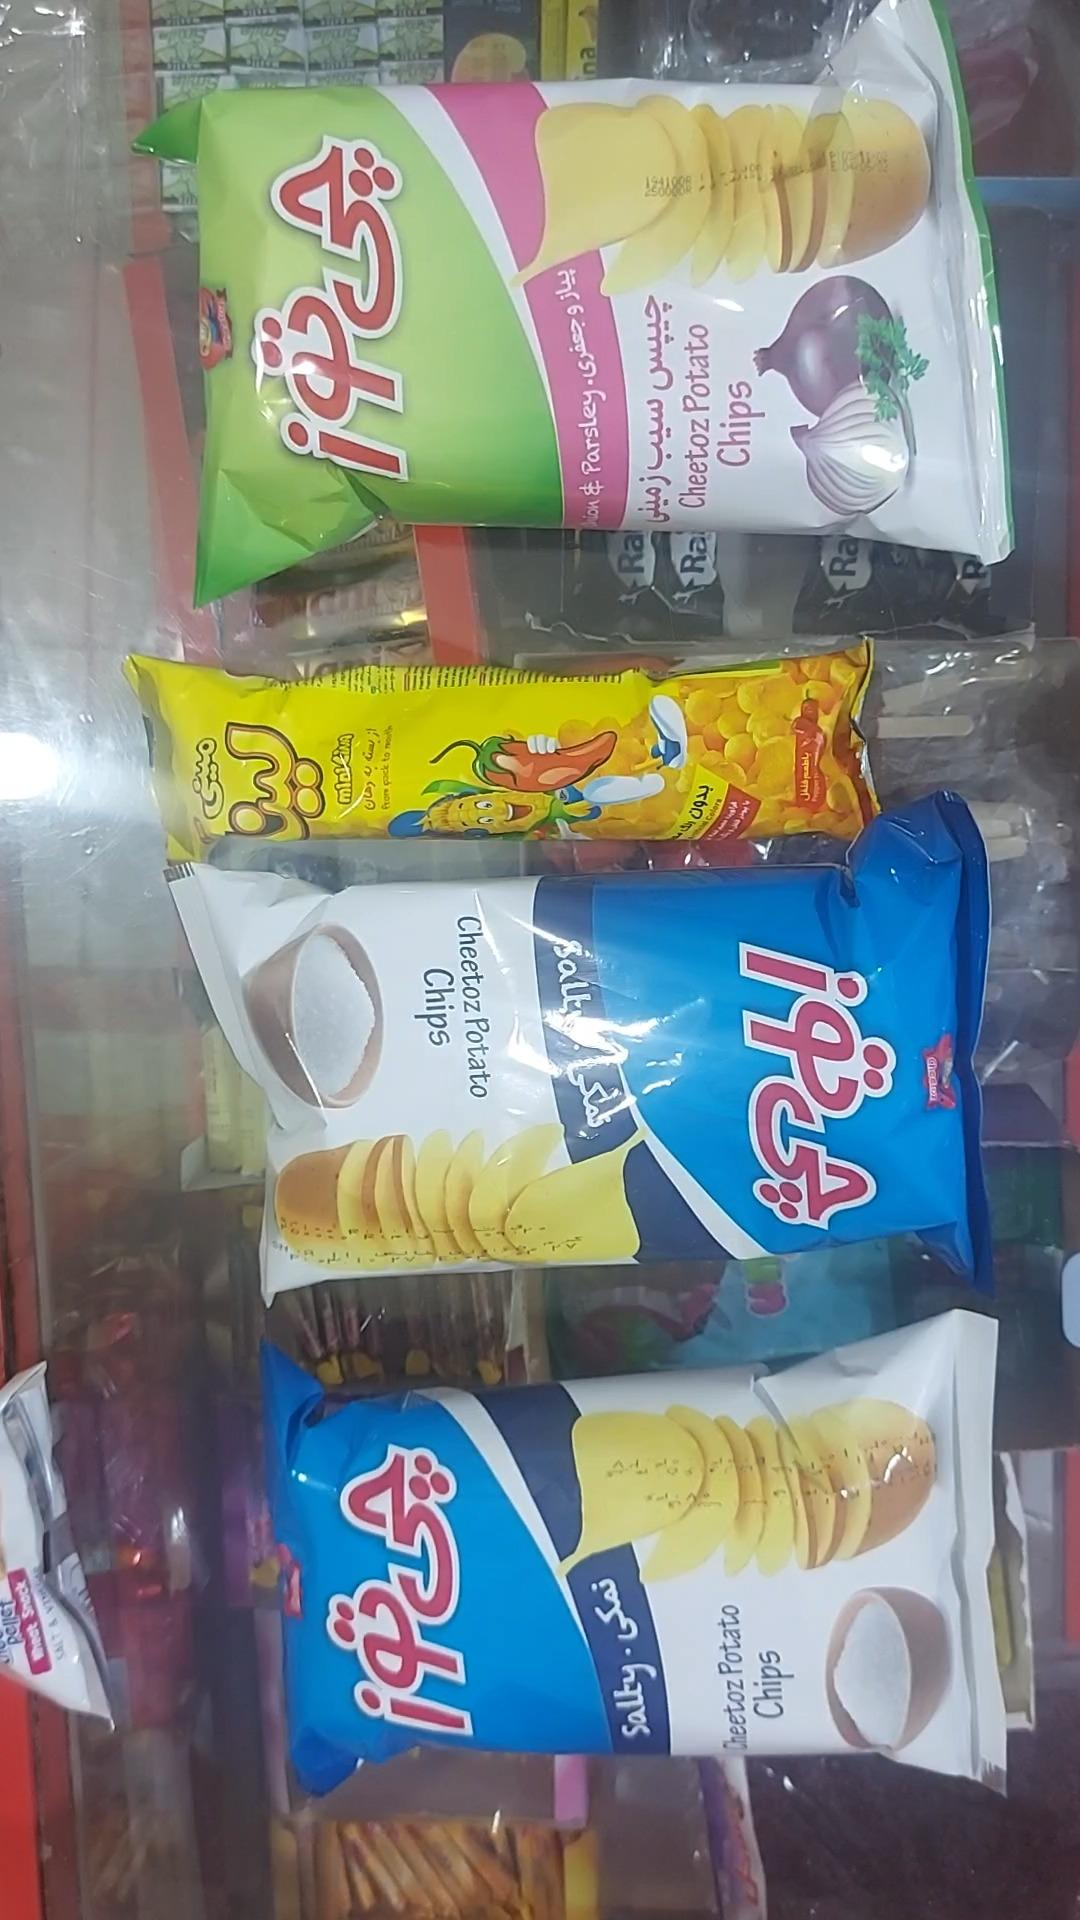Cheetoz onion and parsley chips: (131, 0, 1015, 607)
Cheetoz salty chips: (167, 794, 990, 1280), (261, 1309, 1007, 1801)
Mini Lina: (124, 640, 881, 864)
